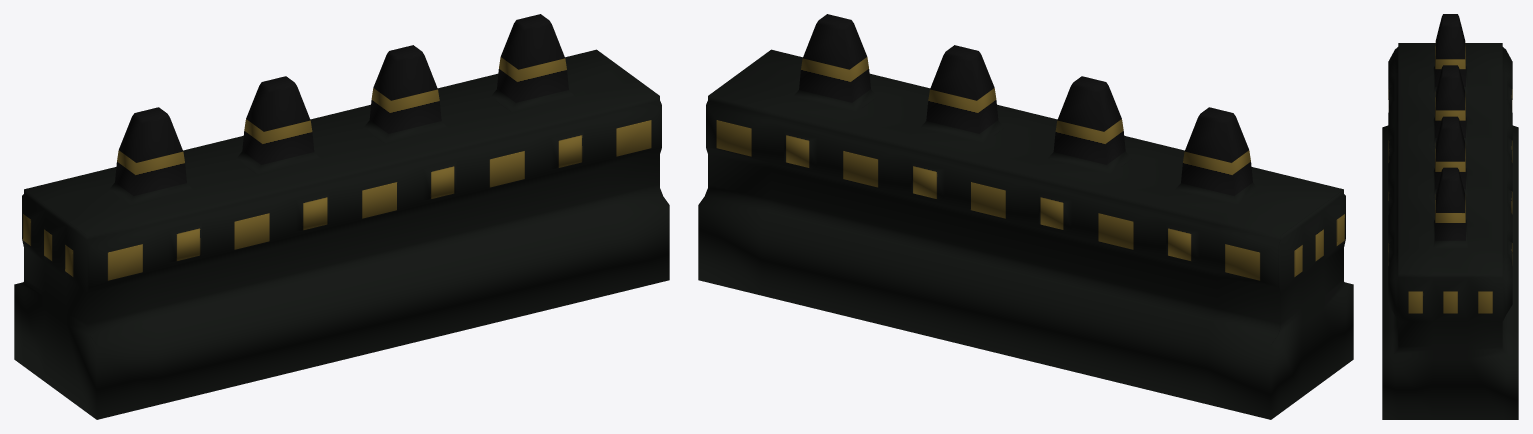
File: Gate.glb
The picture shows the model from 3 angles, left to right: view 1: azimuth 30°, elevation 25°; view 2: azimuth 150°, elevation 25°; view 3: azimuth 270°, elevation 25°; orthographic projection. The views are drawn at different scales.
Parts seen in each view (by area): view 1: GATE; view 2: GATE; view 3: GATE.
Boxes of the visible parts, left/top/right/bottom form: GATE: left=14, top=14, right=669, bottom=419; GATE: left=698, top=14, right=1353, bottom=419; GATE: left=1382, top=14, right=1518, bottom=419.
Bounding box in the file's own units: 8.21 × 3.38 × 2.
1 material, 1 textured.
